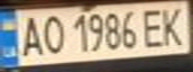1: (66, 11, 90, 53)
6: (118, 7, 142, 51)
8: (103, 9, 124, 52)
9: (84, 10, 106, 52)
A: (15, 12, 45, 57)
E: (139, 6, 169, 48)
K: (157, 3, 190, 47)
O: (39, 11, 66, 55)
